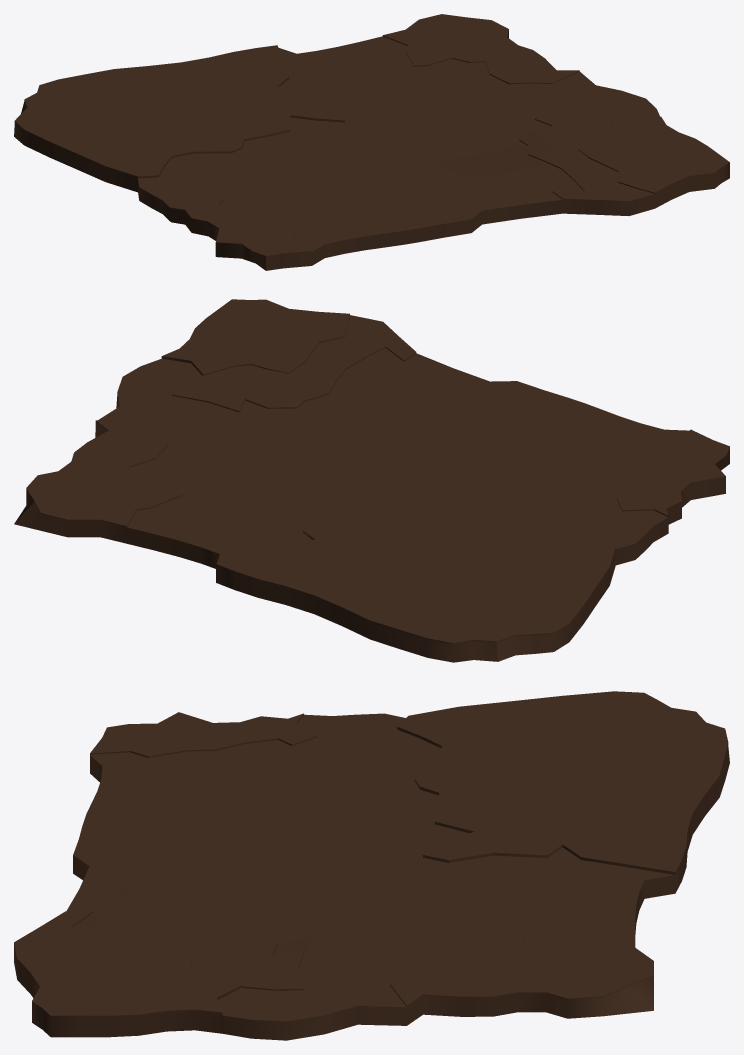
The model's file is TundraBase.fbx.
The picture shows the model from 3 angles, top to bottom: view 1: azimuth 30°, elevation 25°; view 2: azimuth 150°, elevation 25°; view 3: azimuth 270°, elevation 25°; orthographic projection. The views are drawn at different scales.
Visible parts, largest first — view 1: pCube40; view 2: pCube40; view 3: pCube40.
Part boxes in pixels (x1,y1,x2,y2): pCube40: (14,14,729,270); pCube40: (14,299,729,662); pCube40: (14,691,729,1040).
Bounding box in the file's own units: 51.3 × 1.68 × 47.34.
